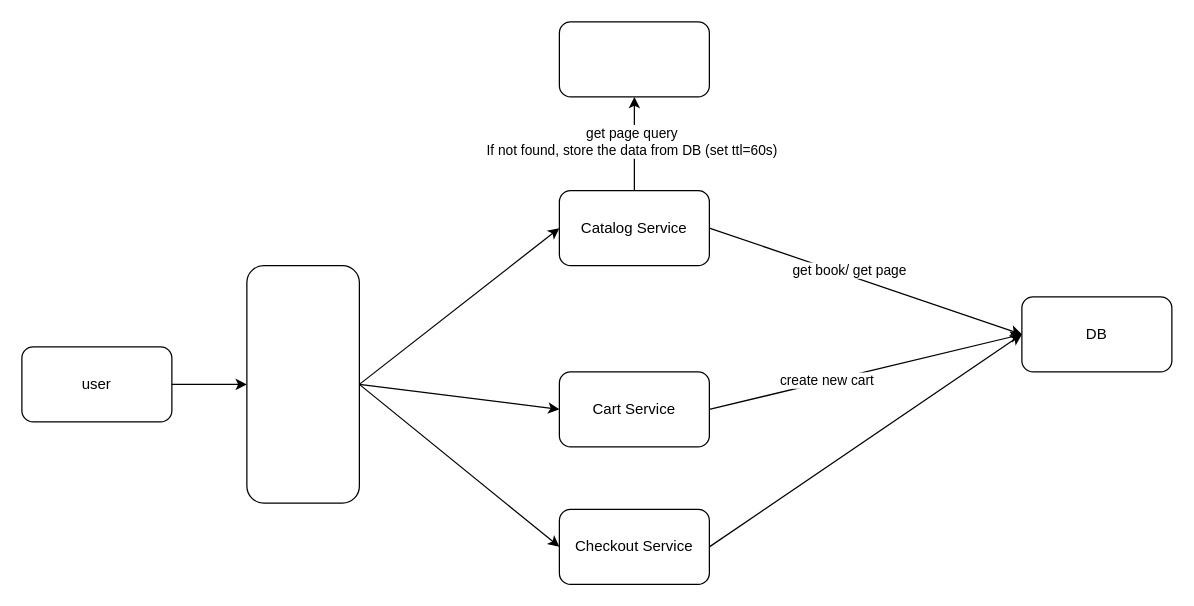
Some shapes in this 1194 by 606 pixel diagram are drawn without their labels. The shapes that lost their labels are listed below. From the top down, each one's centre as x and y in pixels, then its label:
(x=633, y=59): Redis
(x=302, y=383): API Gateway
